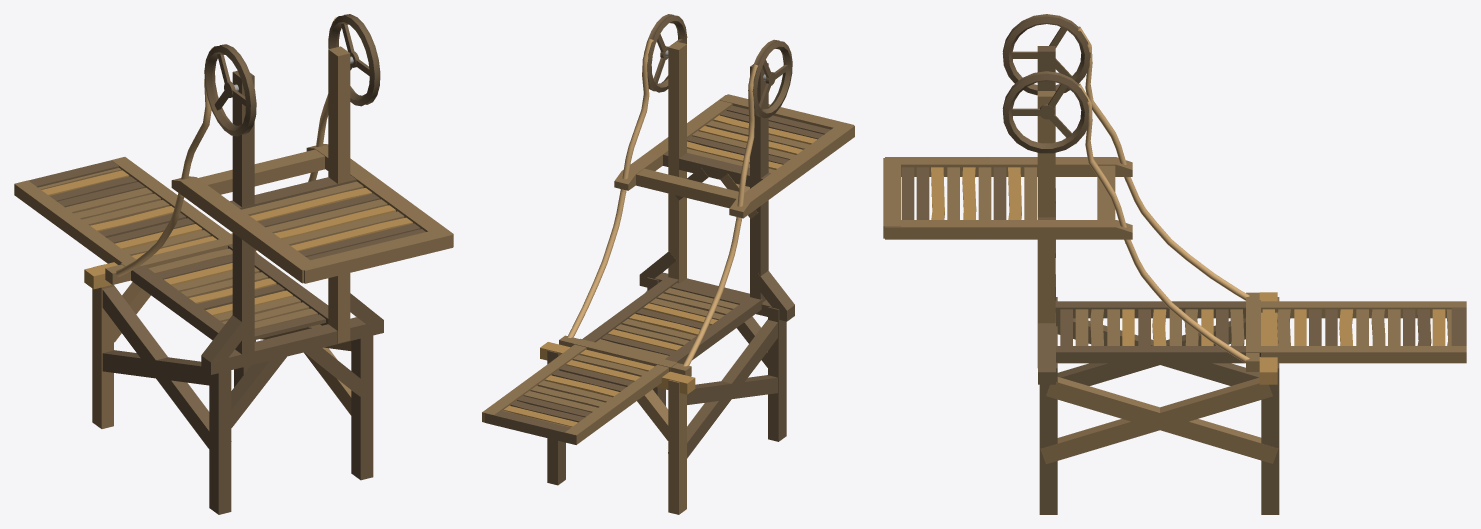
Rendered from drawbridge.fbx.
3 renders of one model, left to right at view 1: azimuth 30°, elevation 25°; view 2: azimuth 150°, elevation 25°; view 3: azimuth 270°, elevation 25°, orthographic. The views are drawn at different scales.
Visible parts, largest first — view 1: pCube73, pCube8, pCube9, pCube26, pCube70, pCube42, pCube1, pCube4, pCube2, pTorus2, pCube52, pCube48 (+38 smaller); view 2: pCube73, pCube9, pCube26, pCube8, pCube69, pCube48, pCube1, pCube52, pCube28, pTorus2, pCube70, pCube27 (+38 smaller); view 3: pCube73, pCube68, pCube27, pCube67, pCube51, pCube9, pTorus3, pCube26, pTorus2, pCube47, pCube52, pCube2 (+20 smaller).
Boxes of the visible parts, x1,y1,x2,y2 form: pCube73: [105, 236, 328, 340]; pCube8: [232, 71, 254, 366]; pCube9: [328, 46, 350, 343]; pCube26: [171, 176, 318, 283]; pCube70: [102, 285, 231, 448]; pCube42: [304, 228, 453, 283]; pCube1: [209, 370, 231, 514]; pCube4: [201, 317, 383, 374]; pCube2: [351, 317, 373, 480]; pTorus2: [204, 44, 256, 136]; pCube52: [14, 180, 135, 264]; pCube48: [92, 264, 113, 428]; pCube73: [559, 276, 762, 376]; pCube9: [668, 41, 686, 283]; pCube26: [729, 122, 854, 218]; pCube8: [750, 63, 768, 301]; pCube69: [668, 319, 777, 458]; pCube48: [668, 380, 686, 514]; pCube1: [768, 307, 786, 441]; pCube52: [565, 364, 668, 444]; pCube28: [636, 168, 738, 208]; pTorus2: [748, 39, 792, 118]; pCube70: [687, 375, 777, 404]; pCube27: [614, 95, 732, 190]; pCube73: [1055, 292, 1260, 371]; pCube68: [1040, 377, 1272, 464]; pCube27: [885, 220, 1132, 239]; pCube67: [1046, 377, 1278, 463]; pCube51: [1260, 346, 1466, 363]; pCube9: [1037, 91, 1055, 367]; pTorus3: [1002, 71, 1088, 153]; pCube26: [885, 157, 1132, 176]; pTorus2: [1002, 14, 1090, 95]; pCube47: [1261, 362, 1279, 514]; pCube52: [1261, 301, 1466, 318]; pCube2: [1039, 362, 1057, 514].
Bounding box in the file's own units: 311 × 791 × 960.
